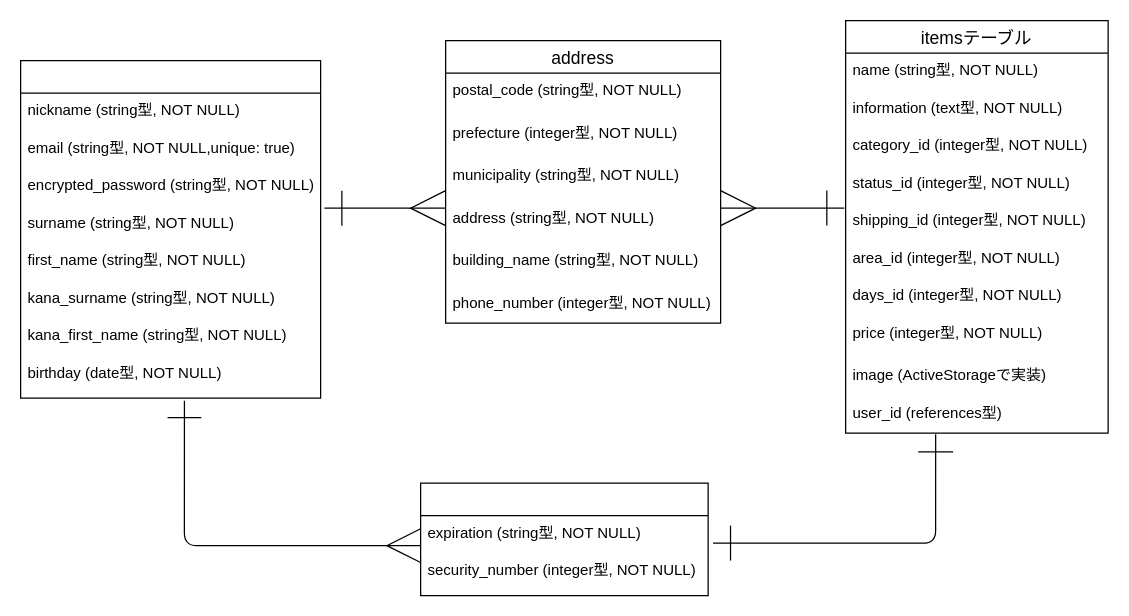
Some shapes in this 1129 by 616 pixel diagram are drawn without their labels. The box of each missing label's shape, as (x1, y1, x2, y2) in pixels:
buysテーブル: (419, 482, 708, 596)
usersテーブル: (19, 59, 321, 398)
